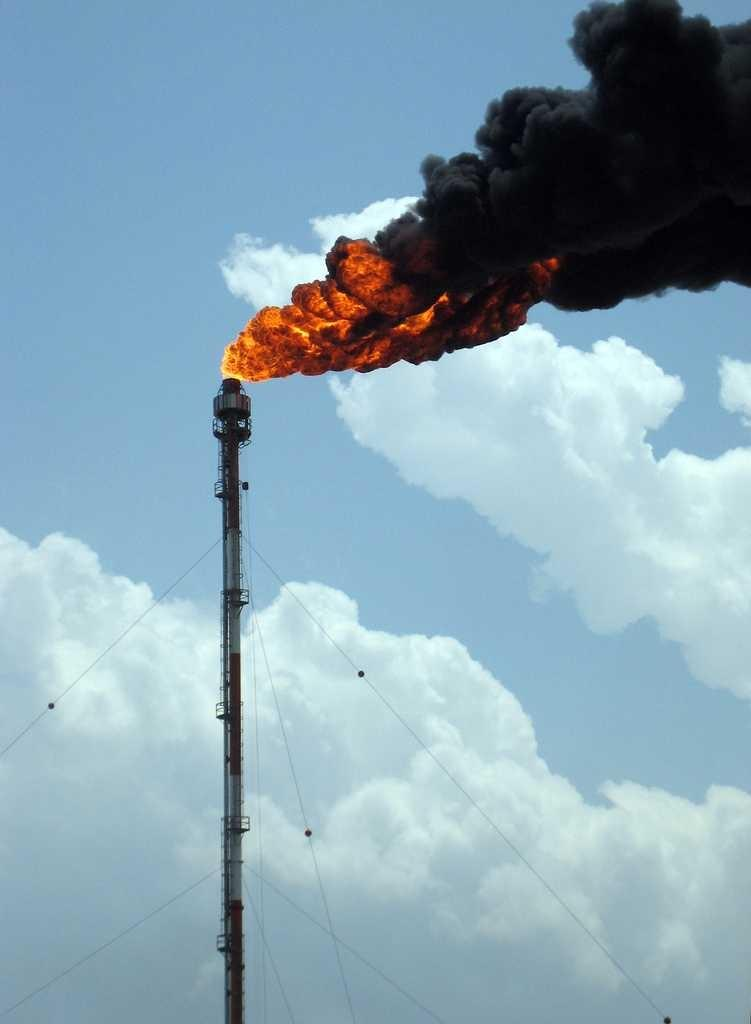fire: (309, 270, 380, 372), (229, 304, 293, 383)
smoke: (599, 32, 751, 301), (475, 103, 596, 251)
